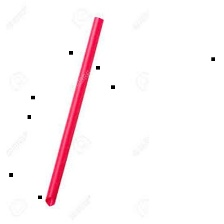drinking_straw: (38, 13, 108, 210)
